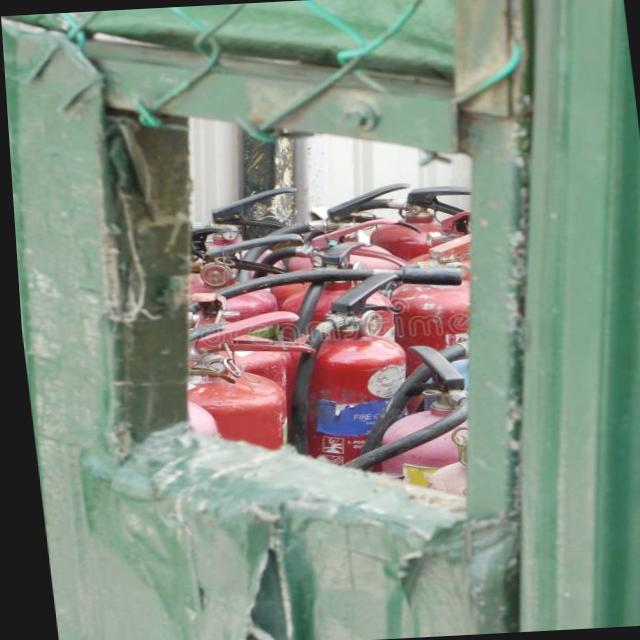FireExtinguisher: (114, 307, 338, 640), (146, 228, 331, 530), (276, 270, 439, 608), (357, 336, 503, 638), (362, 226, 515, 474)
